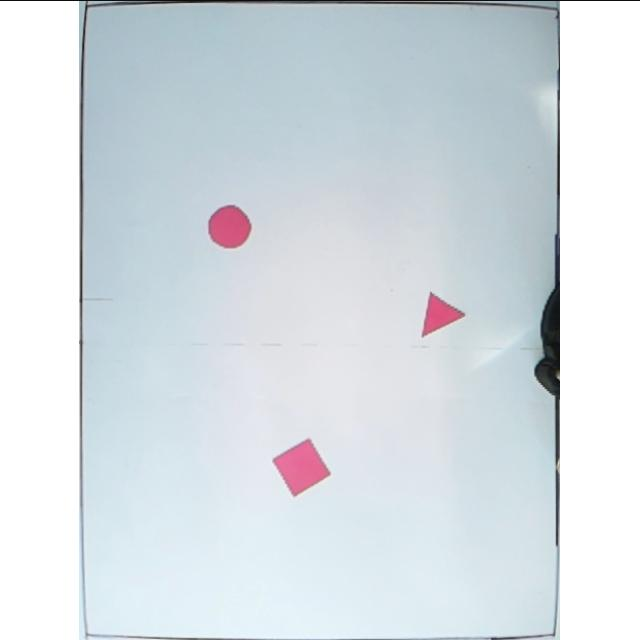pinkCircle: (209, 204, 255, 248)
pinkSquare: (273, 437, 333, 498)
pinkTriangle: (418, 290, 468, 340)
